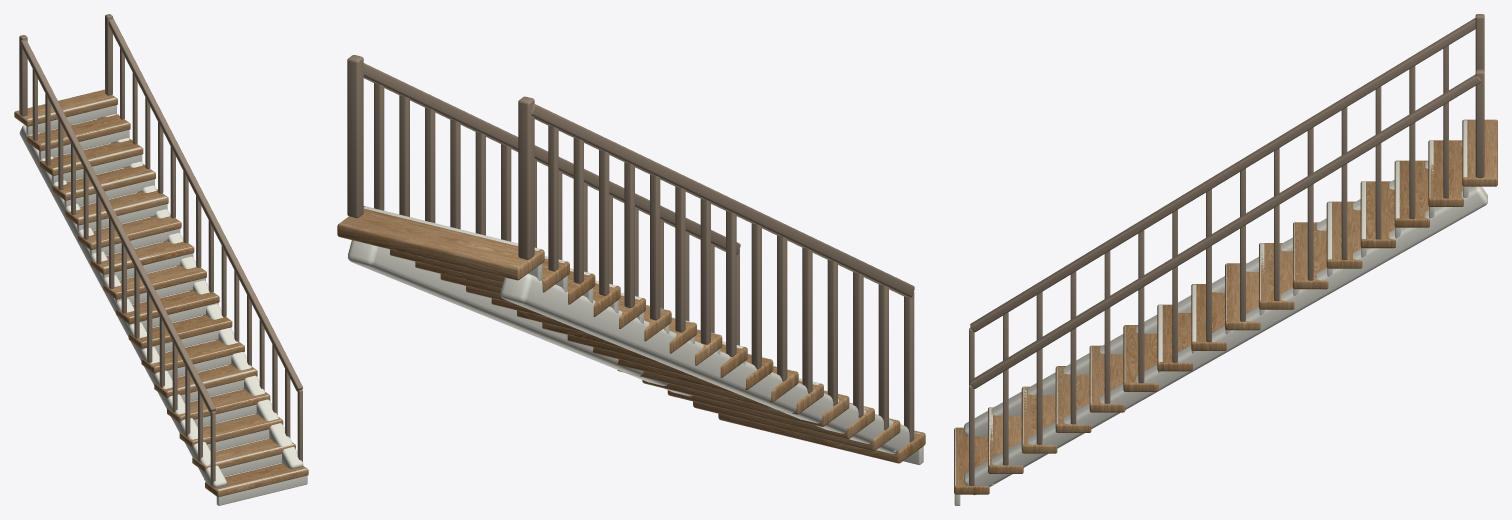
The model's file is stairs-traditional.glb.
3 renders of one model, left to right at view 1: azimuth 30°, elevation 25°; view 2: azimuth 150°, elevation 25°; view 3: azimuth 270°, elevation 25°, orthographic. The views are drawn at different scales.
Parts seen in each view (by area): view 1: catalog_surface_RealismUV; view 2: catalog_surface_RealismUV; view 3: catalog_surface_RealismUV.
Boxes of the visible parts, box(x1,y1,x2,y2) form: catalog_surface_RealismUV: box(14, 14, 308, 505); catalog_surface_RealismUV: box(337, 55, 925, 464); catalog_surface_RealismUV: box(954, 14, 1497, 505).
Bounding box in the file's own units: 1.1 × 3.7 × 4.2.
3 materials, 1 textured.
